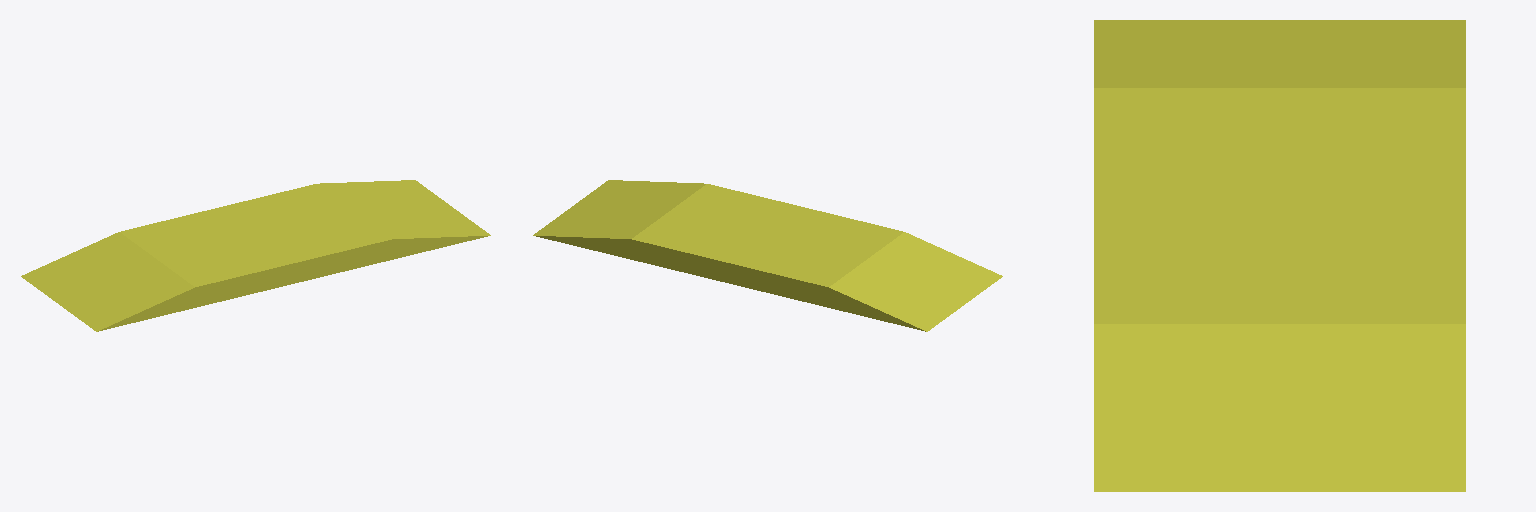
The robot description file, URDF, robot "Part1":
<?xml version="1.0" encoding="utf-8"?>
<!-- This URDF was automatically created by SolidWorks to URDF Exporter! Originally created by [author] ([email redacted]) 
     Commit Version: 1.5.1-0-g916b5db  Build Version: 1.5.7152.31018
     For more information, please see http://wiki.ros.org/sw_urdf_exporter -->
<robot
  name="Part1">
  <link
    name="ramp_5">
    <inertial>
      <origin
        xyz="7.5814E-16 7.67928484115444E-17 -0.005"
        rpy="0 0 0" />
      <mass
        value="500" />
      <inertia
        ixx="180.35"
        ixy="-6.0423E-14"
        ixz="4.7564E-15"
        iyy="450.35"
        iyz="1.08287265732095E-14"
        izz="630" />
    </inertial>
    <visual>
      <origin
        xyz="-1.2 -0.5 0"
        rpy="1.5707963267949 0 0" />
      <geometry>
        <mesh
          filename="package://ramp_5/meshes/ramp_5.STL" scale="1.5 3.3 1" />
      </geometry>
      <material
        name="">
        <color
           rgba="0.8 0.8 0.3 1" />
        <texture
          filename="package://ramp_5/textures/" />
      </material>
    </visual>
    <collision>
      <origin
        xyz="-1.2 -0.5 0"
        rpy="1.5707963267949 0 0" />
      <geometry>
        <mesh
          filename="package://ramp_5/meshes/ramp_5.STL"  scale="1.5 3.3 1"/>
      </geometry>
    </collision>
  </link>
</robot>

--- What the picture shows (computed from the rendered views, not written in the file) ---
The picture shows the robot from 3 angles, left to right: view 1: azimuth 30°, elevation 25°; view 2: azimuth 150°, elevation 25°; view 3: azimuth 270°, elevation 25°; orthographic projection.
Robot: Part1 — 1 links, 0 joints (none); root link ramp_5; default pose: every joint at zero.
Visible links, largest first — view 1: ramp_5; view 2: ramp_5; view 3: ramp_5.
Link boxes in pixels (x1,y1,x2,y2): ramp_5: (21,180,490,331); ramp_5: (533,180,1002,331); ramp_5: (1094,20,1465,491).
Size in the robot's own frame: 6 by 2 by 0.297 metres.
Meshes: 1 distinct files referenced, 1 mesh visuals loaded (1 binary STL).